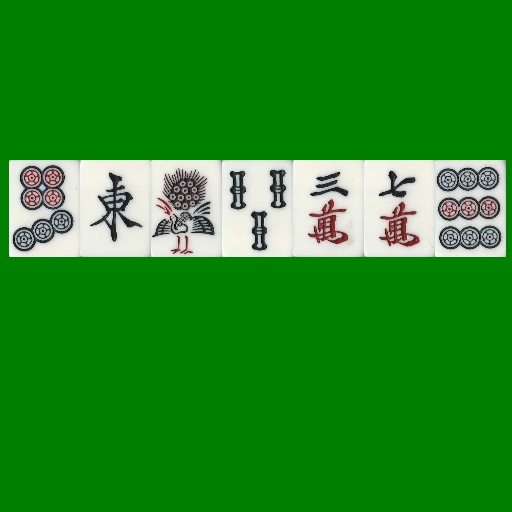1s: (151, 160, 222, 257)
3m: (293, 160, 364, 257)
3s: (222, 160, 293, 257)
7m: (364, 160, 435, 257)
7p: (9, 160, 80, 257)
9p: (435, 160, 506, 257)
east: (80, 160, 151, 257)
